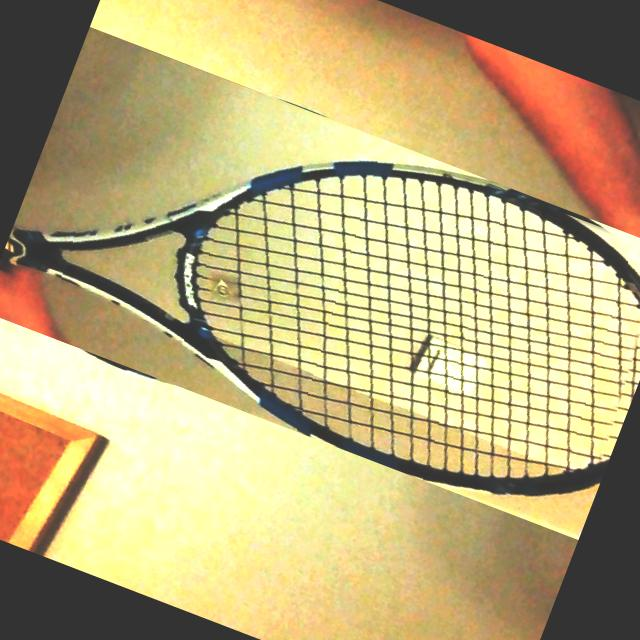TennisRacket: (0, 26, 640, 539)
